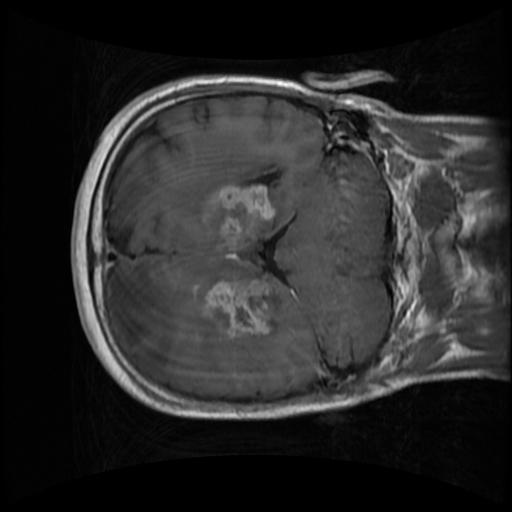glioma: (200, 184, 275, 339)
